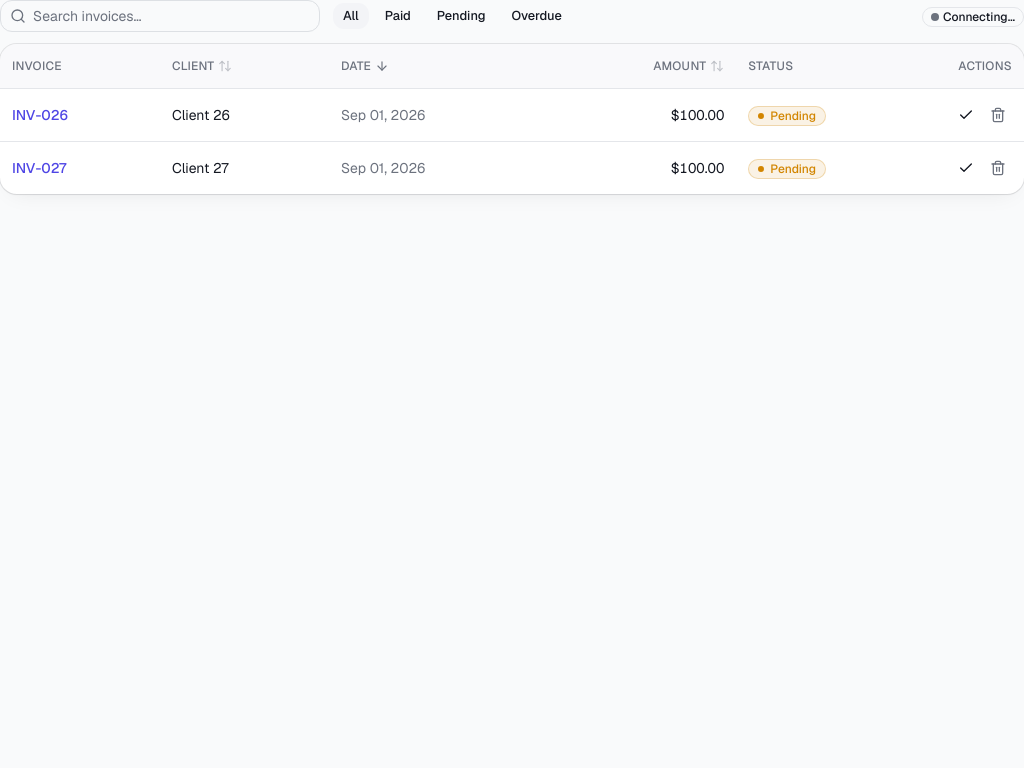
Test: InvoiceTable › deletes the invoice when the user confirms
Click the button named "Delete invoice" in the row of "INV-026" at [998, 114], box [984,100,1012,128]
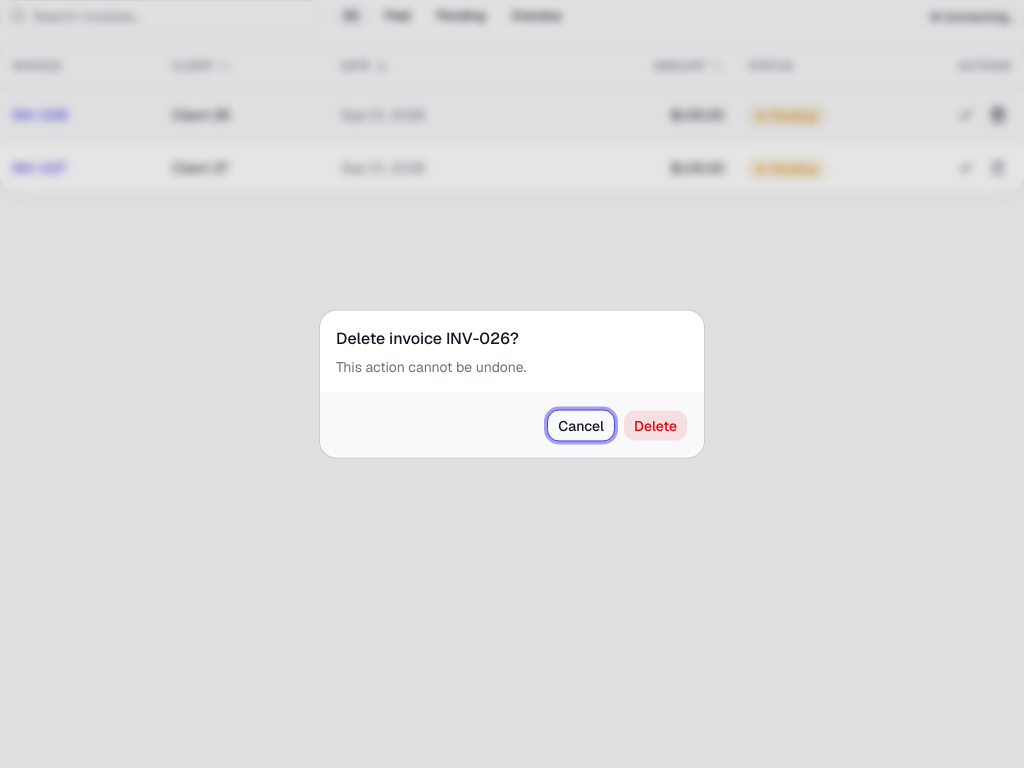
Click the button "Delete" at [655, 426], box [623,410,688,442]
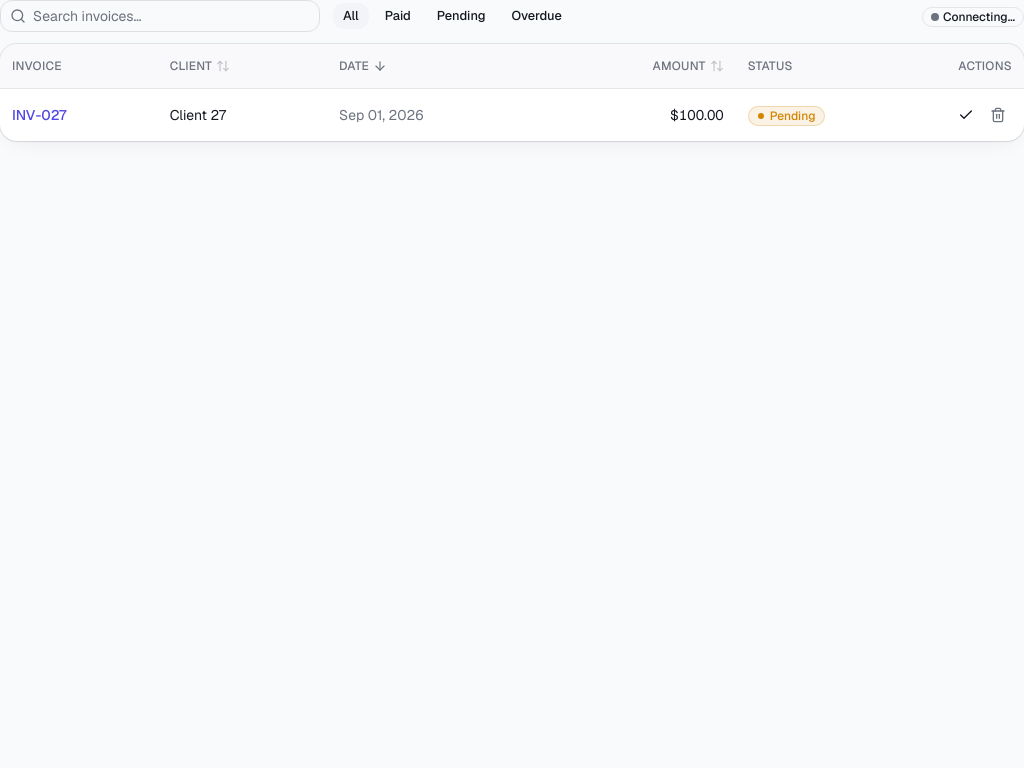
Expected: the link "INV-026" is gone
